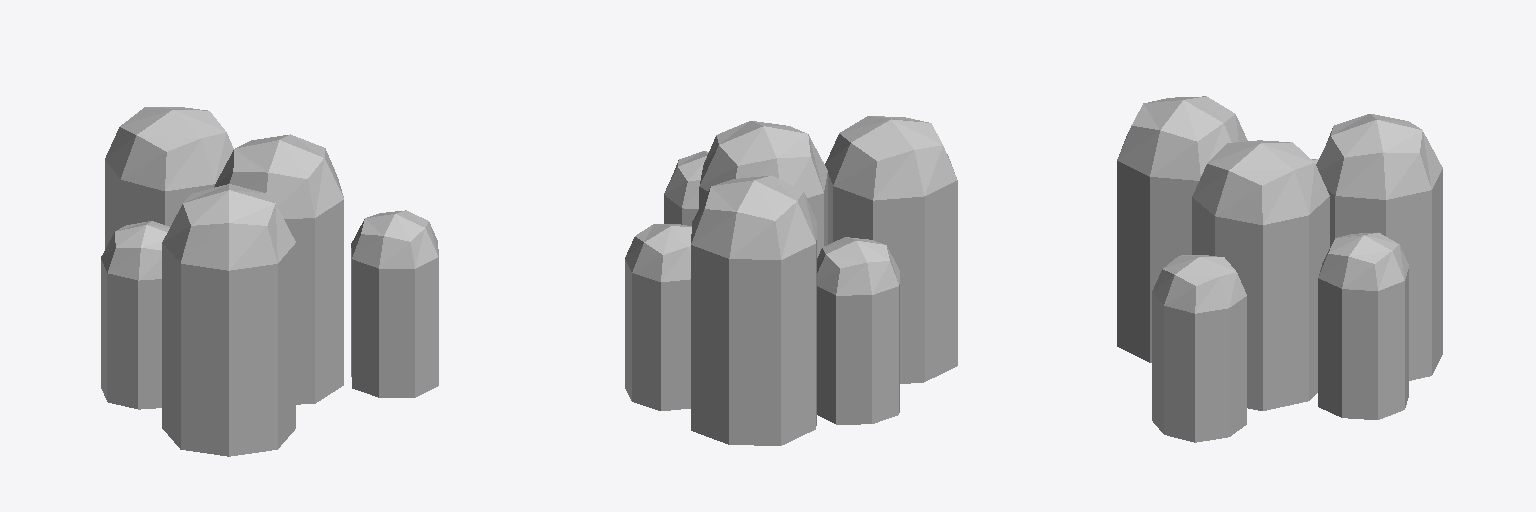
The model's file is RockS_2.obj.
The picture shows the model from 3 angles: view 1: azimuth 30°, elevation 25°; view 2: azimuth 150°, elevation 25°; view 3: azimuth 270°, elevation 25°; orthographic projection.
Parts seen in each view (by area): view 1: Rock_5; view 2: Rock_5; view 3: Rock_5.
Part boxes in pixels (bbox=[...]): Rock_5: bbox=[101, 107, 438, 456]; Rock_5: bbox=[625, 116, 957, 445]; Rock_5: bbox=[1117, 96, 1442, 442].
Size of the model in its own units: 0.9682 by 0.7898 by 0.9757.